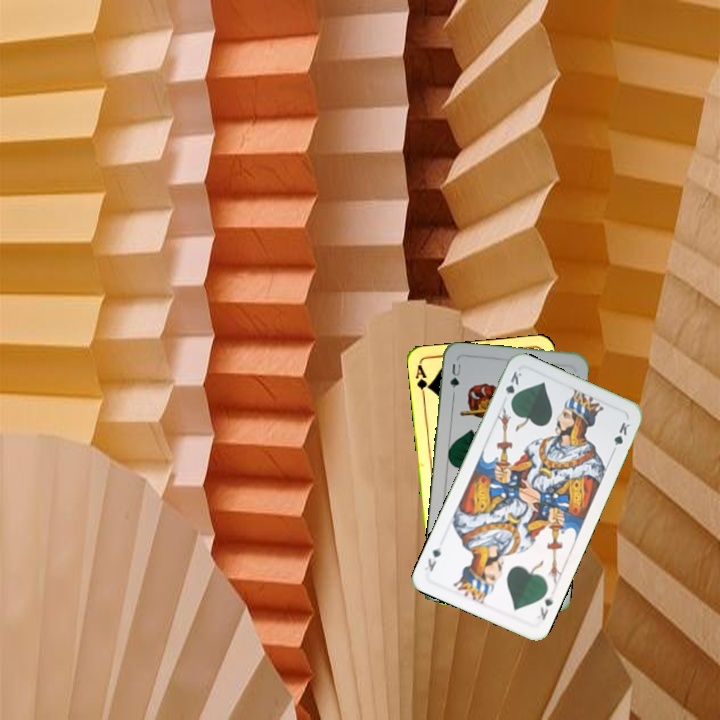GA: (411, 361, 433, 401)
GK: (501, 367, 524, 407), (533, 591, 556, 623)
GU: (446, 360, 463, 397)
